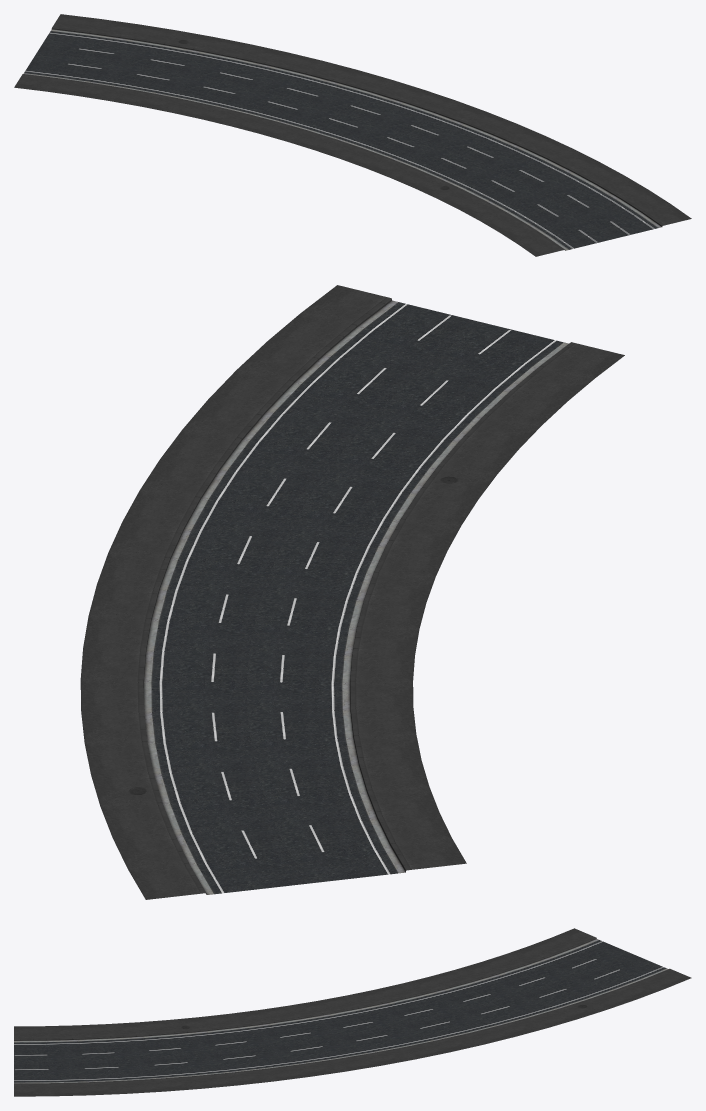
File: city_road_3ways45left.fbx
The picture shows the model from 3 angles, top to bottom: view 1: azimuth 30°, elevation 25°; view 2: azimuth 150°, elevation 25°; view 3: azimuth 270°, elevation 25°; orthographic projection. The views are drawn at different scales.
Visible parts, largest first — view 1: obj0; view 2: obj0; view 3: obj0.
Boxes of the visible parts, <box> form: obj0: <box>14,14,691,256</box>; obj0: <box>80,285,624,899</box>; obj0: <box>14,928,691,1096</box>.
Bounding box in the file's own units: 88.27 × 0.254 × 150.
